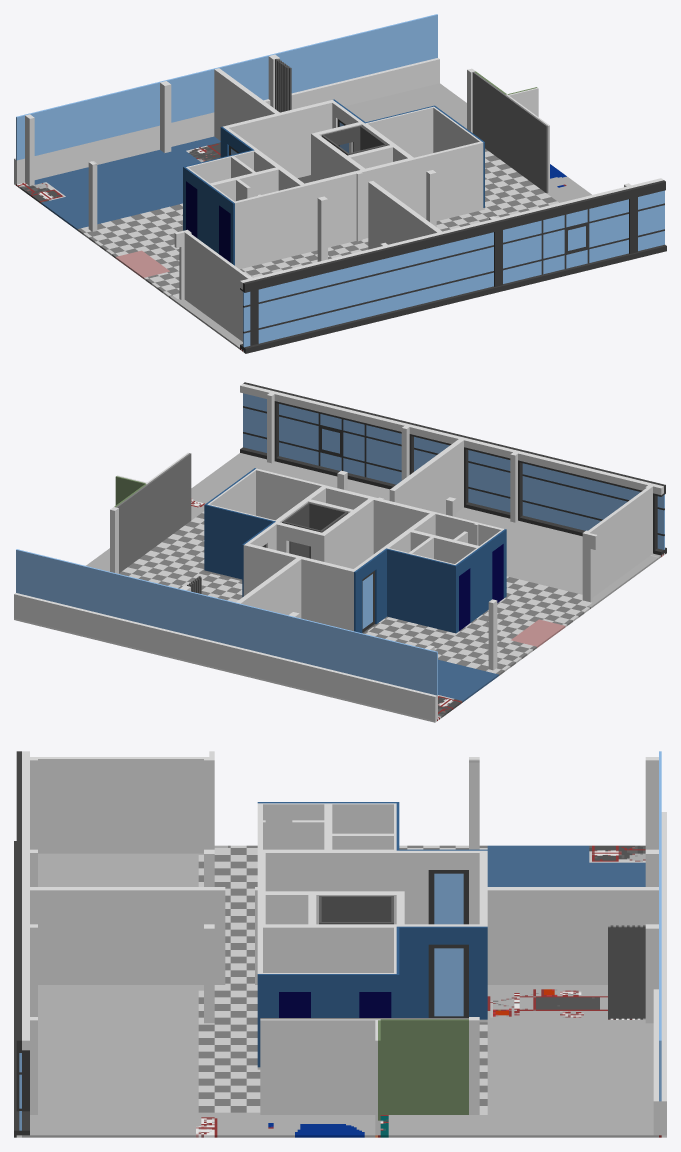
The model's file is dice_2og-101-floorplan_3.obj.
The picture shows the model from 3 angles, top to bottom: view 1: azimuth 30°, elevation 25°; view 2: azimuth 150°, elevation 25°; view 3: azimuth 270°, elevation 25°; orthographic projection. The views are drawn at different scales.
Visible parts, largest first — view 1: floorplan_3; view 2: floorplan_3; view 3: floorplan_3.
Part boxes in pixels (bbox=[...]): floorplan_3: bbox=[14, 14, 666, 353]; floorplan_3: bbox=[14, 382, 666, 722]; floorplan_3: bbox=[14, 751, 666, 1137].
Bounding box in the file's own units: 25.6 × 4 × 24.4.
Materials: 1 (1 with a texture image).
